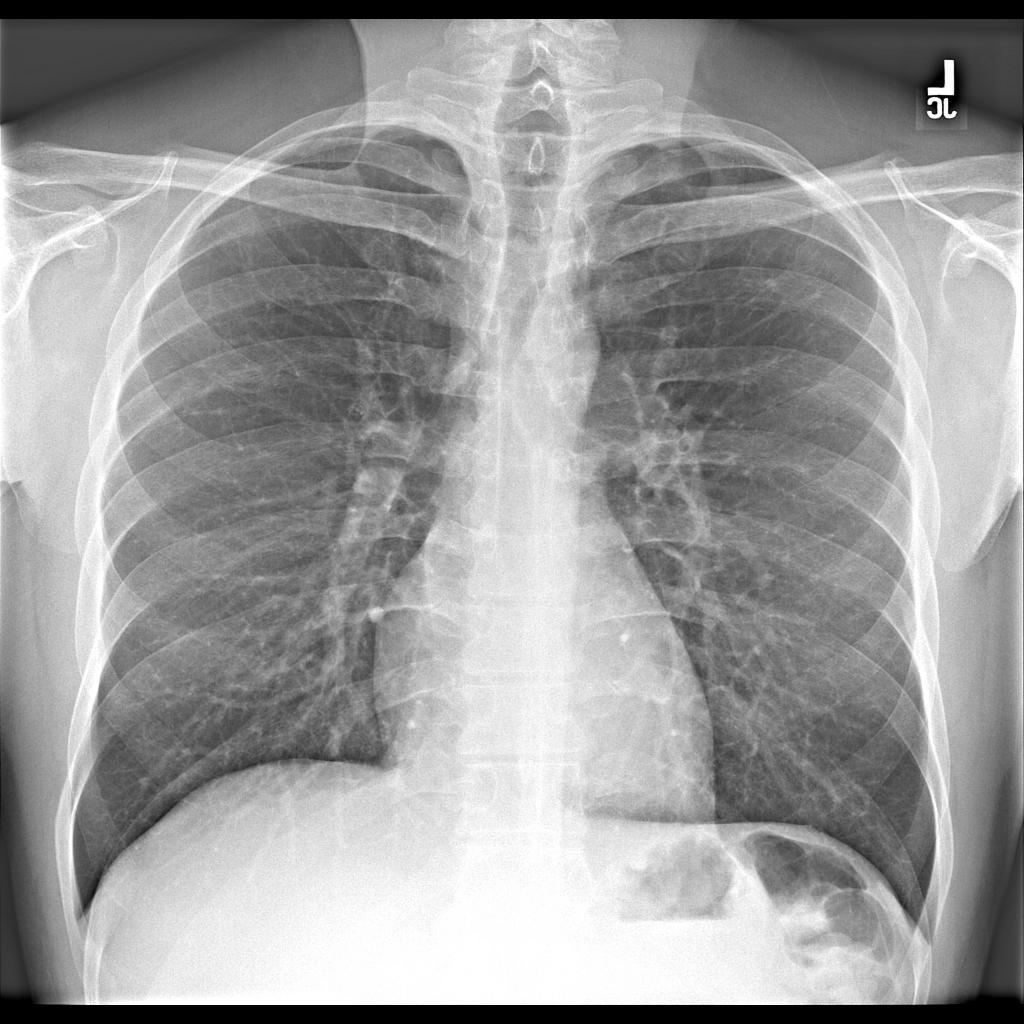Nodule: (371, 610, 384, 622)
